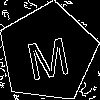M: (23, 28, 73, 81)
